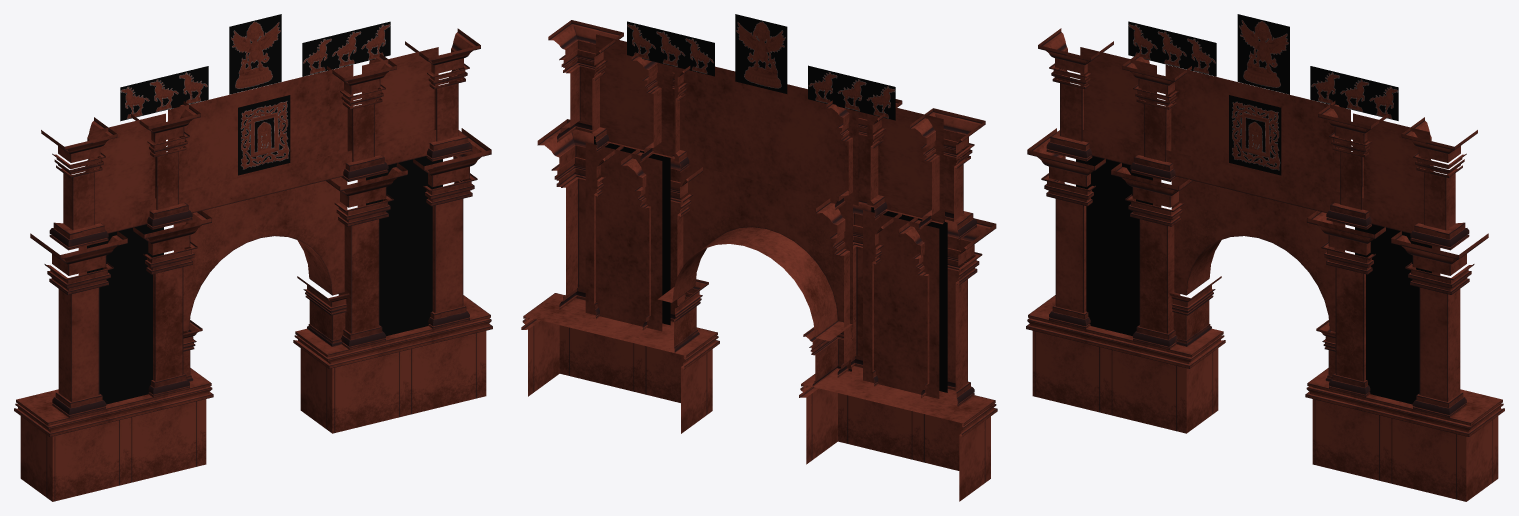
File: Arch.fbx
3 renders of one model, left to right at view 1: azimuth 30°, elevation 25°; view 2: azimuth 150°, elevation 25°; view 3: azimuth 330°, elevation 25°, orthographic.
Visible parts, largest first — view 1: arch1, statues; view 2: arch1, statues; view 3: arch1, statues.
Part boxes in pixels (left/top/right/bottom): arch1: left=14, top=28, right=492, bottom=501; statues: left=87, top=14, right=442, bottom=404; arch1: left=521, top=20, right=997, bottom=501; statues: left=594, top=14, right=947, bottom=392; arch1: left=1026, top=28, right=1504, bottom=501; statues: left=1076, top=14, right=1431, bottom=404.
Bounding box in the file's own units: 27.6 × 24.91 × 4.45.
